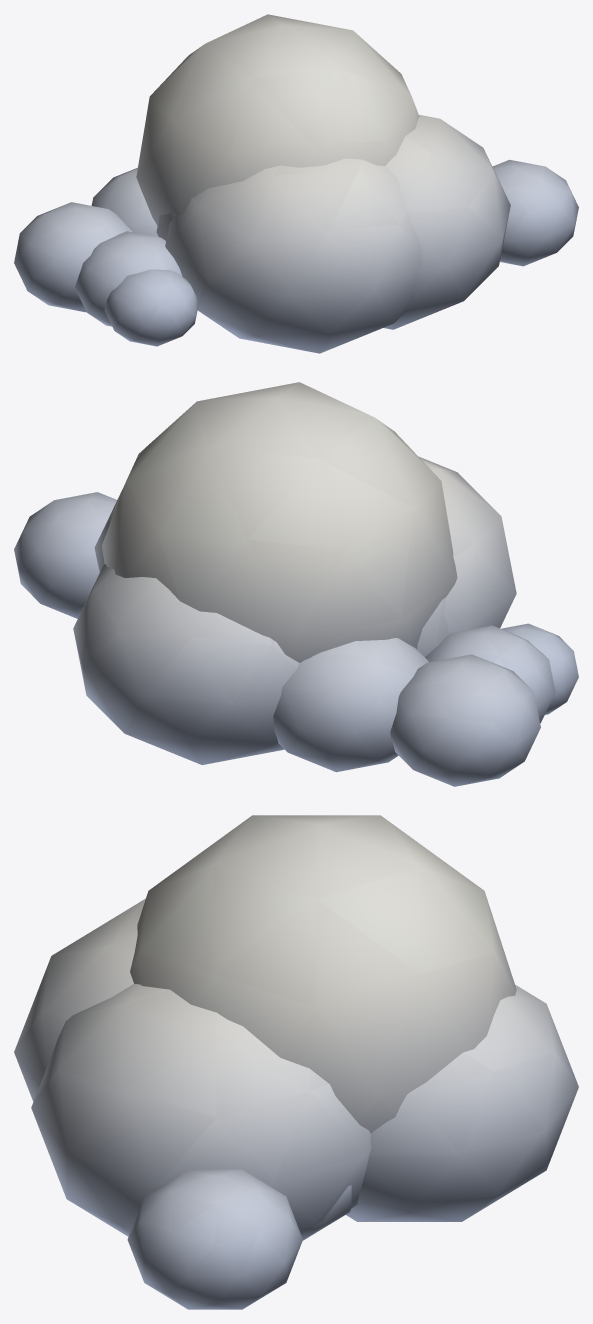
Rendered from cloud_a.glb.
The picture shows the model from 3 angles, top to bottom: view 1: azimuth 30°, elevation 25°; view 2: azimuth 150°, elevation 25°; view 3: azimuth 270°, elevation 25°; orthographic projection. The views are drawn at different scales.
Visible parts, largest first — view 1: Cloud; view 2: Cloud; view 3: Cloud.
Boxes of the visible parts, x1,y1,x2,y2 form: Cloud: [14, 14, 578, 353]; Cloud: [14, 382, 578, 786]; Cloud: [14, 815, 578, 1309].
Bounding box in the file's own units: 7.35 × 4.08 × 5.44.
